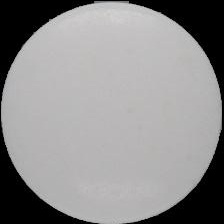51655-588: (0, 0, 224, 224)
